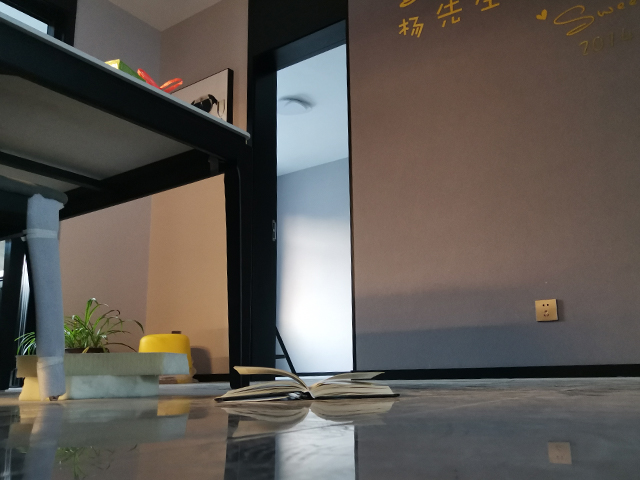book: (211, 364, 402, 404)
stool: (138, 331, 197, 385)
table: (1, 11, 254, 406)
